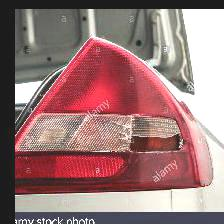tail_lamp: (99, 120, 189, 163)
